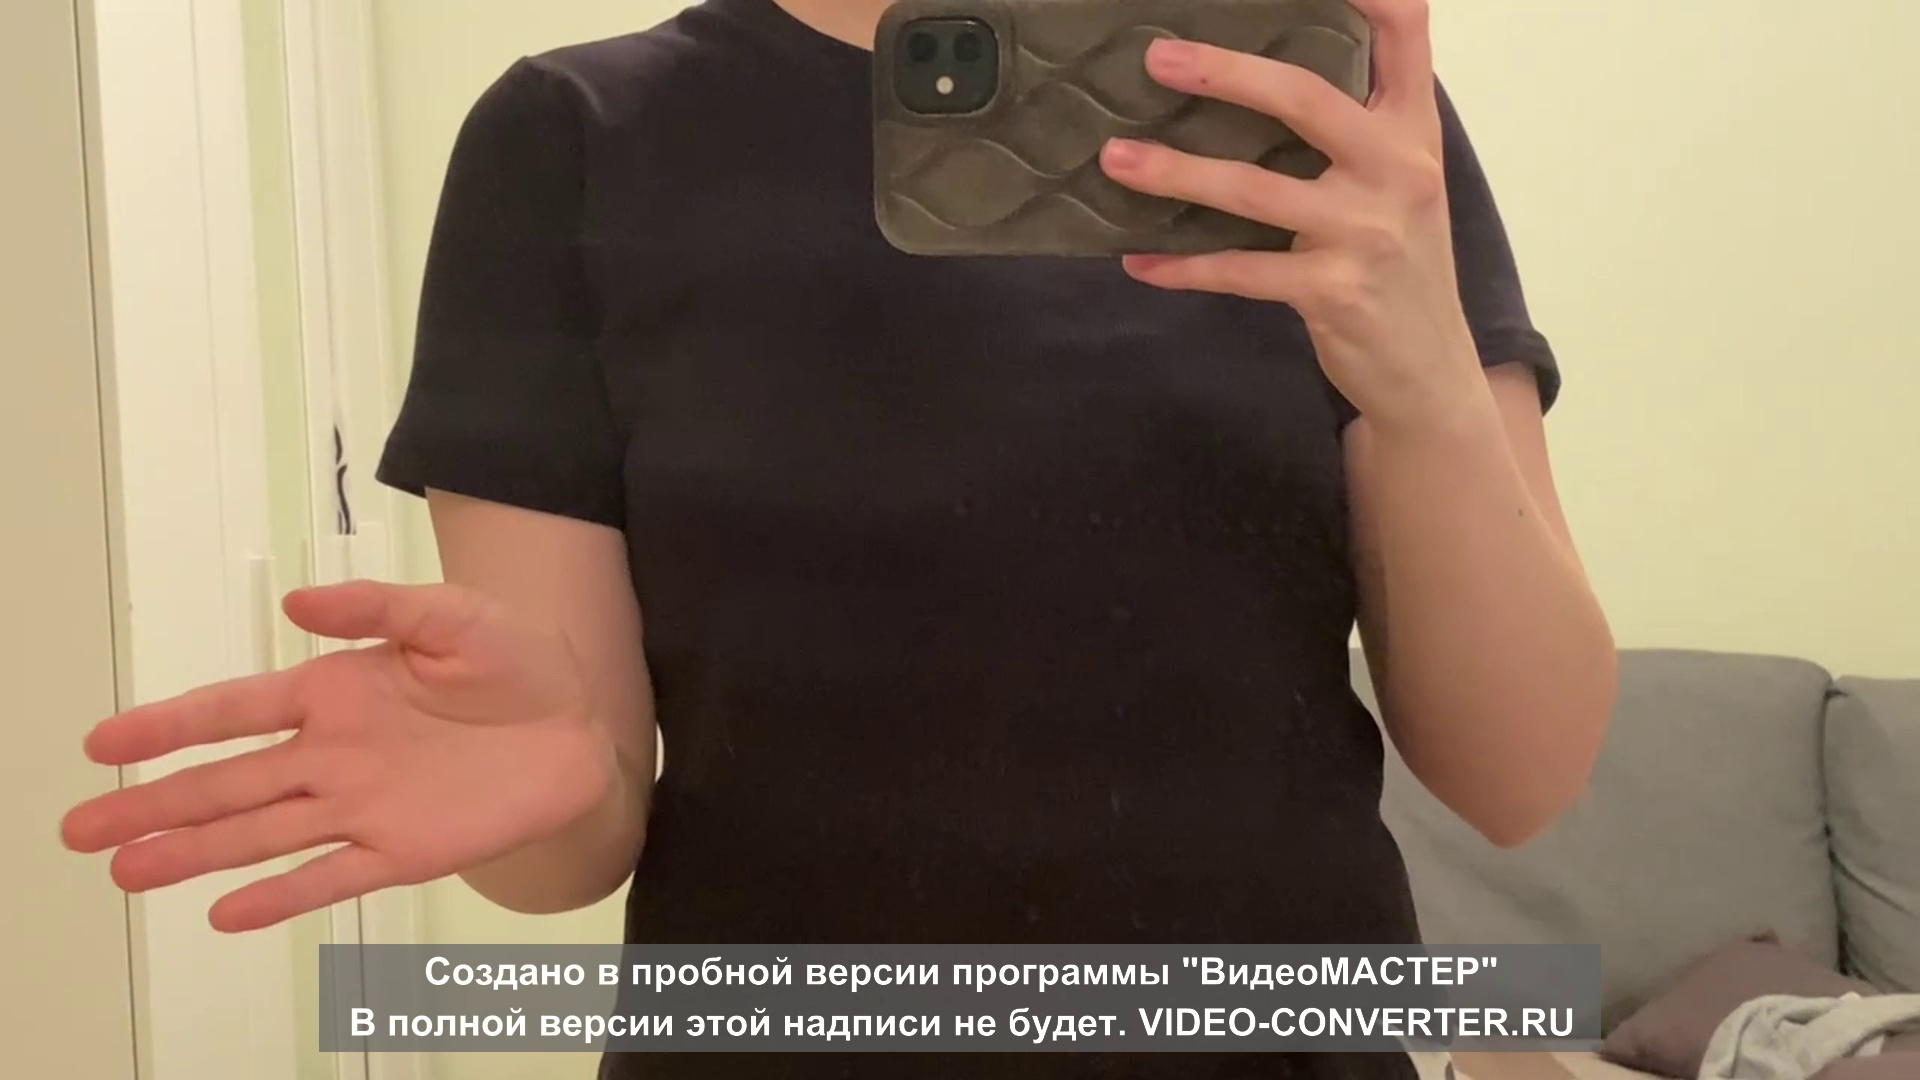Ладонь: (62, 578, 615, 927)
